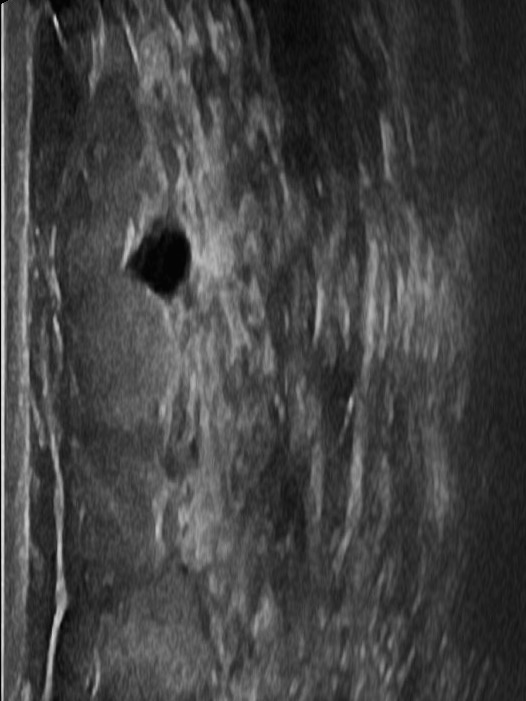Benign: (118, 219, 196, 301)
